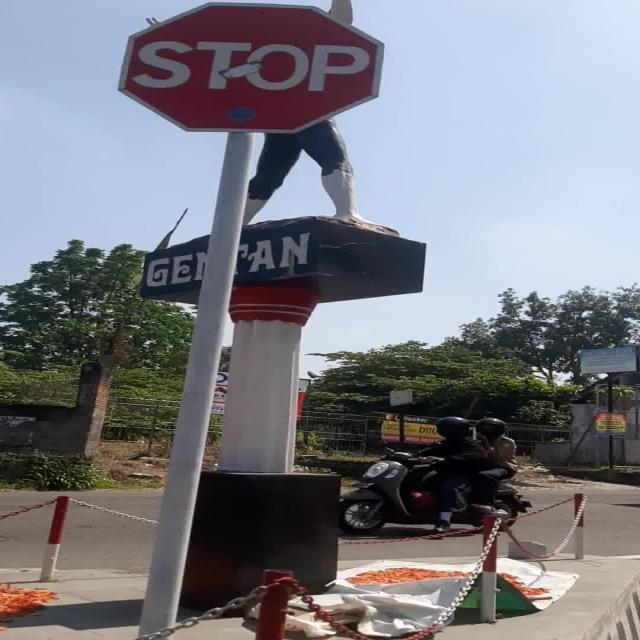Berhenti: (116, 2, 384, 132)
